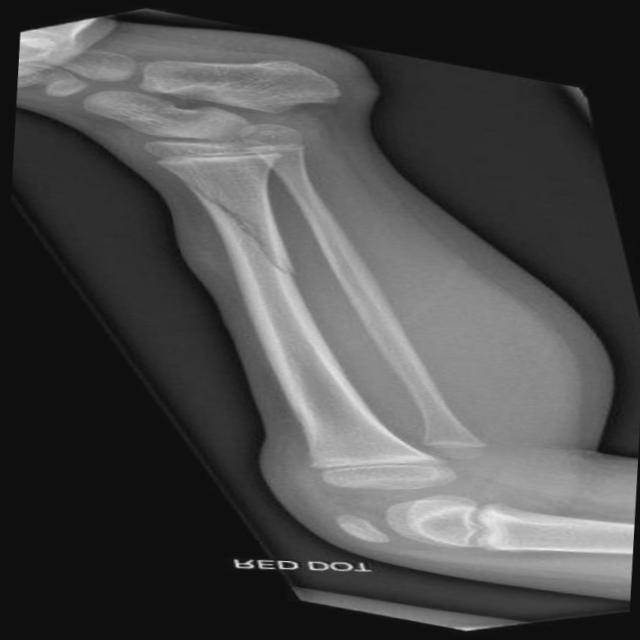Oblique Displaced: (170, 176, 334, 290)
